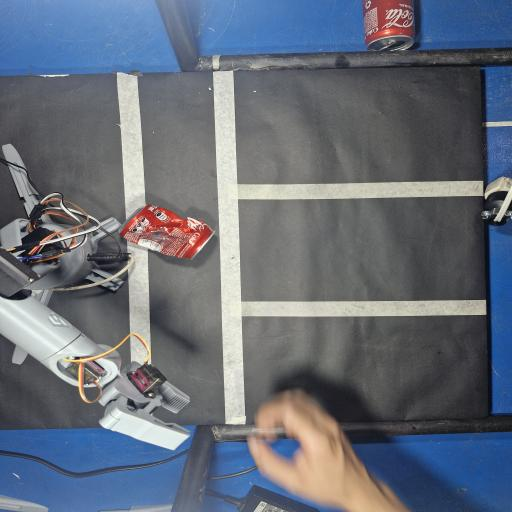lata_defectuoso: (120, 204, 213, 259)
